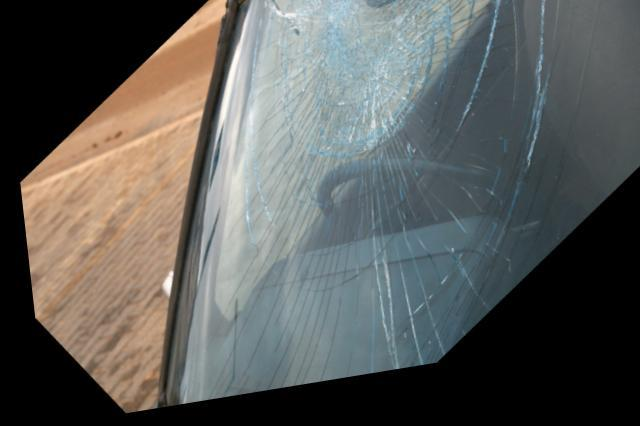glass shatter: (157, 0, 640, 410)
